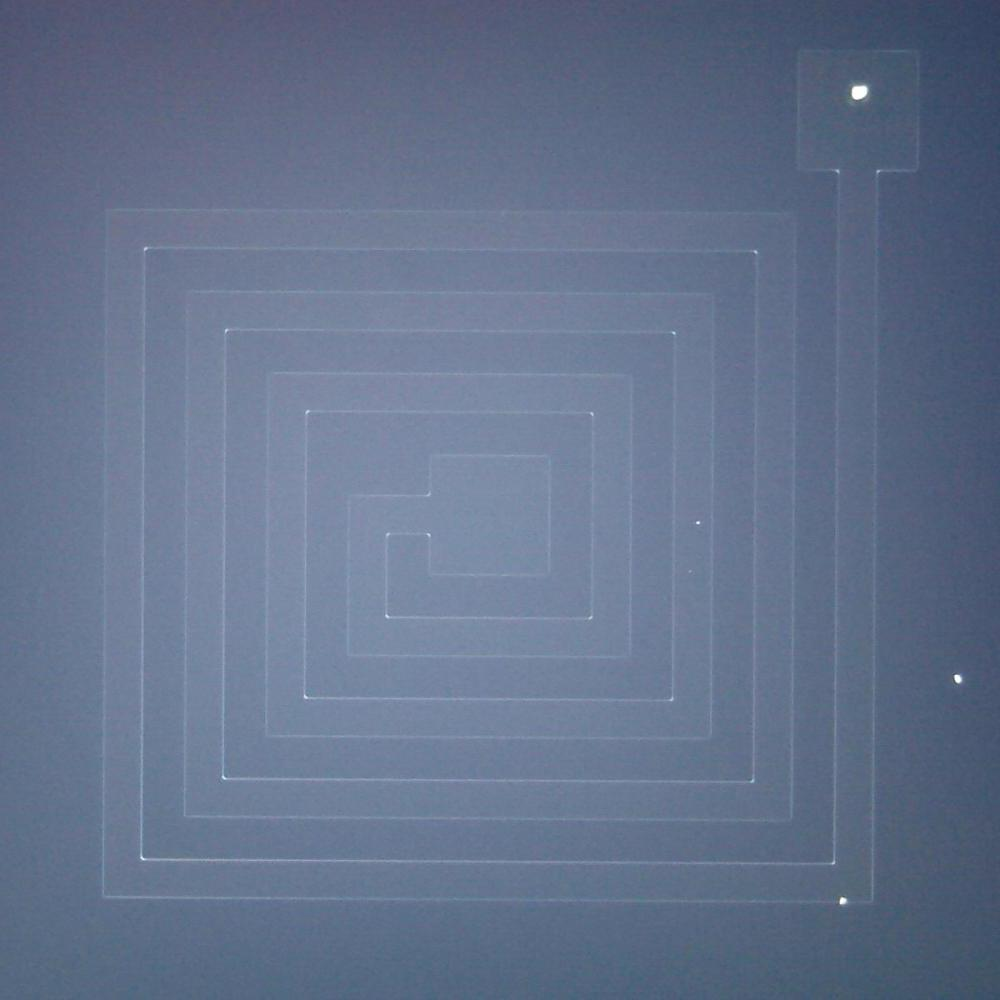dot: (687, 513, 710, 534)
spot: (838, 70, 878, 113), (828, 887, 857, 916), (946, 668, 968, 691)
